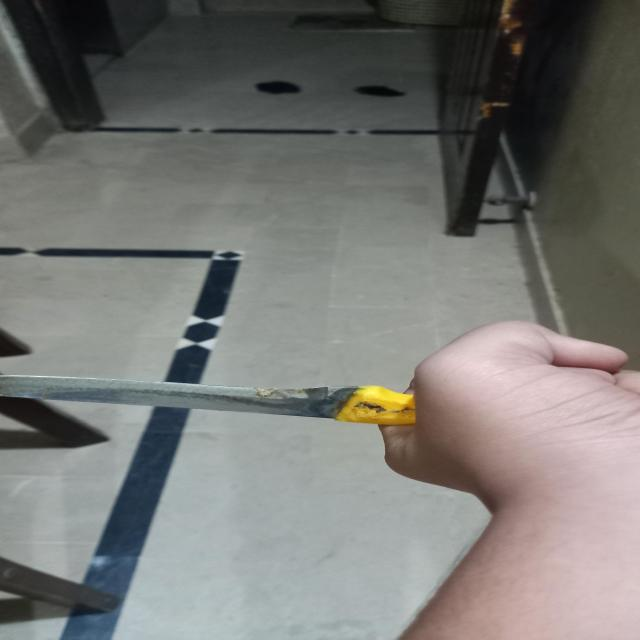Knife: (0, 374, 413, 426)
Person: (379, 320, 640, 640)
